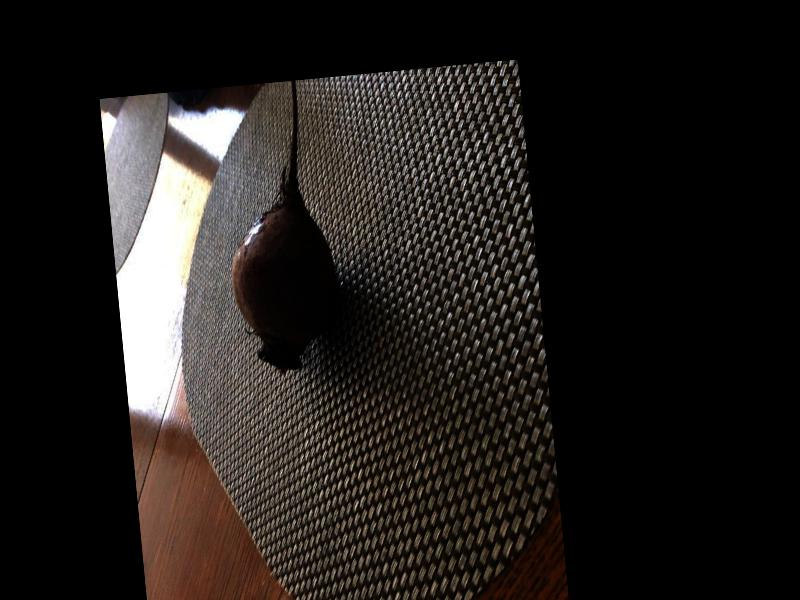Beet: (215, 81, 343, 375)
